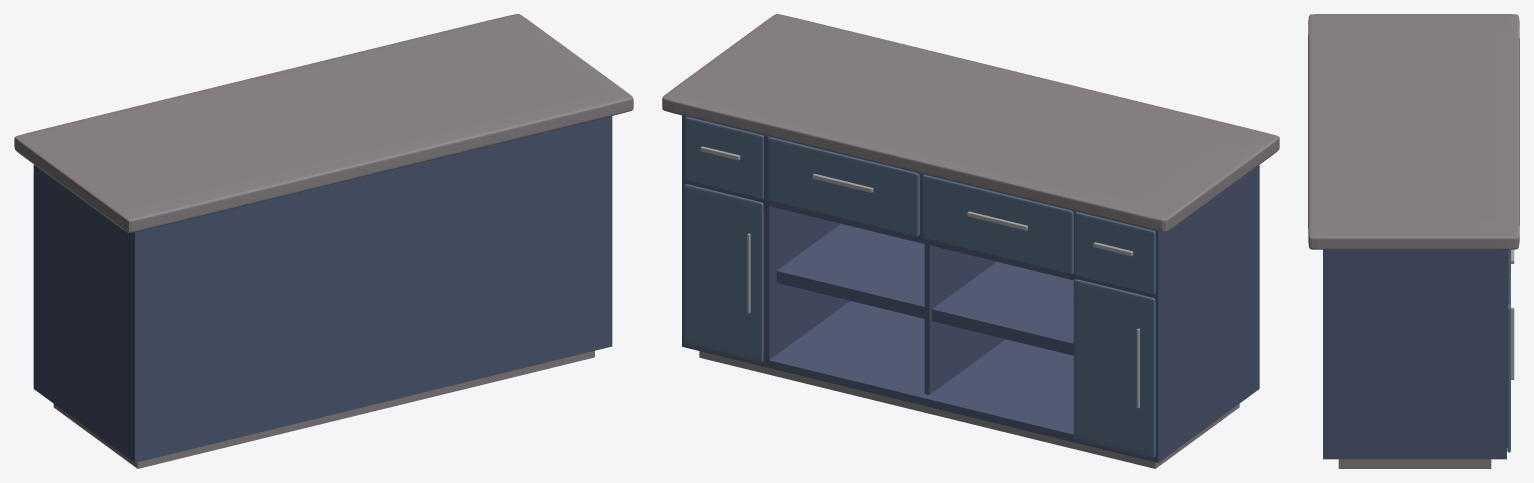
Rendered from ChemistryTable_final.fbx.
3 views of the same model, side by side, from view 1: azimuth 30°, elevation 25°; view 2: azimuth 150°, elevation 25°; view 3: azimuth 270°, elevation 25° (orthographic). The views are drawn at different scales.
Parts seen in each view (by area): view 1: Box, Table, Bottom; view 2: Box, Table, Shelf2, Shelf1, Drawer5, Drawer6, Drawer2, Drawer1, Bottom; view 3: Table, Box, Bottom, Shelf1, HandleBox1.
Part boxes in pixels (<box>): Box: <box>33,116,612,462</box>; Table: <box>14,14,633,232</box>; Bottom: <box>53,351,594,468</box>; Box: <box>682,115,1259,462</box>; Table: <box>662,14,1279,232</box>; Shelf2: <box>1073,279,1155,458</box>; Shelf1: <box>684,184,763,362</box>; Drawer5: <box>767,137,919,236</box>; Drawer6: <box>922,175,1073,274</box>; Drawer2: <box>1074,212,1155,294</box>; Drawer1: <box>685,117,763,199</box>; Bottom: <box>699,351,1239,468</box>; Table: <box>1308,14,1519,249</box>; Box: <box>1323,249,1506,459</box>; Bottom: <box>1338,459,1491,468</box>; Shelf1: <box>1507,273,1510,452</box>; HandleBox1: <box>1511,307,1514,379</box>.
Size of the model in its own units: 200 by 101 by 79.96.
